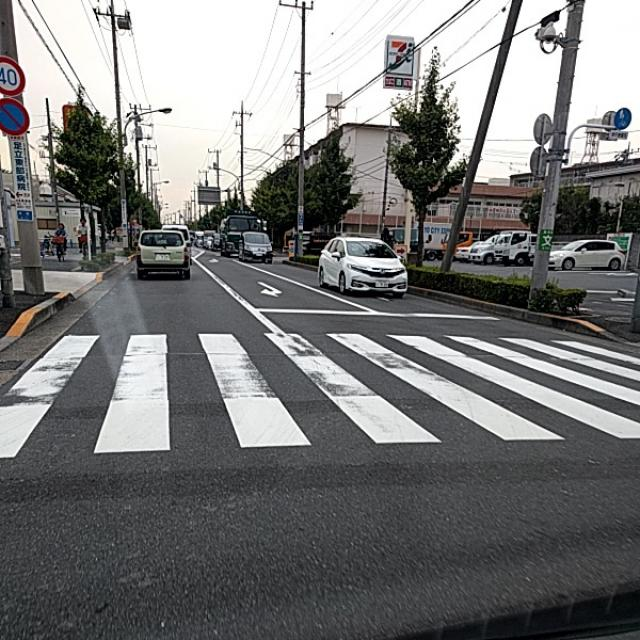pothole: (33, 502, 148, 529)
